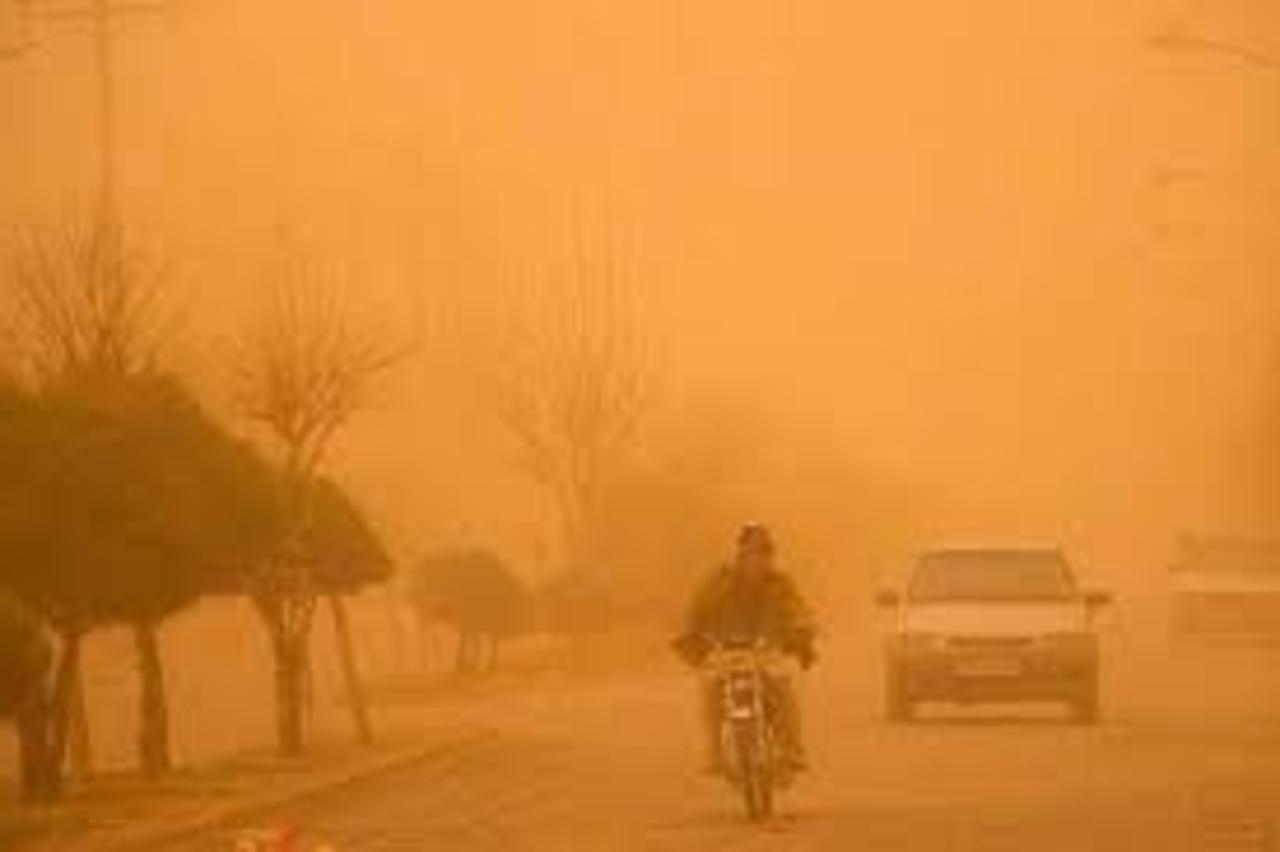car: (888, 547, 1114, 725), (1167, 536, 1276, 657)
motorcycle: (673, 632, 818, 815)
person: (676, 522, 826, 789)
